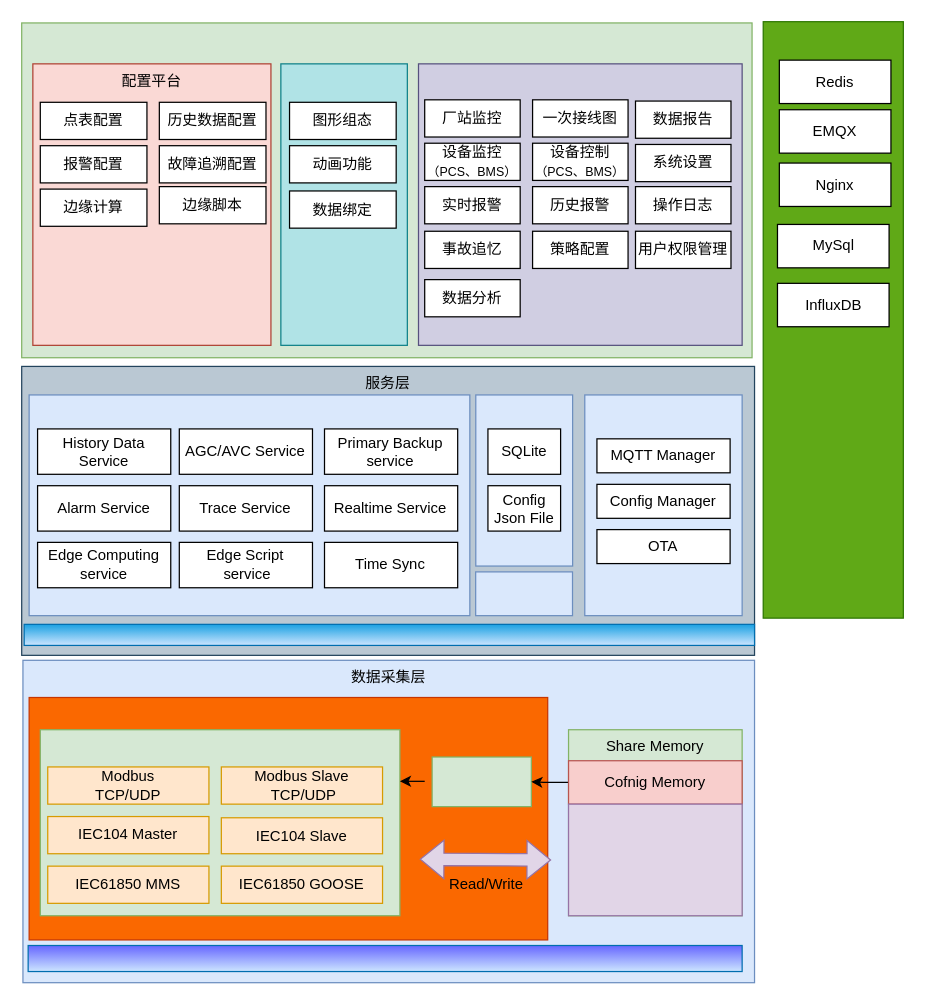
This 925x1004 diagram has some shape labels left out. Here are the shapes that lost their labels. From the top down, the box of each, then its label:
(280, 63, 407, 345): 组态平台
(20, 22, 752, 358): 应用层
(417, 63, 742, 345): 监控平台
(762, 20, 903, 618): 中间件
(475, 394, 573, 566): DB
(28, 394, 470, 616): Service Manager
(584, 394, 742, 616): IOT App
(474, 571, 573, 616): Daemon App
(23, 623, 755, 645): 消息服务总线，采用IPC技术（Share Memory/Message Queue/Socket）
(431, 756, 531, 807): DAQ Config Paser
(39, 728, 400, 916): Driver Library
(28, 696, 548, 940): DriverManager
(567, 803, 742, 916): Data Memory
(27, 944, 742, 972): 协议转发总线
